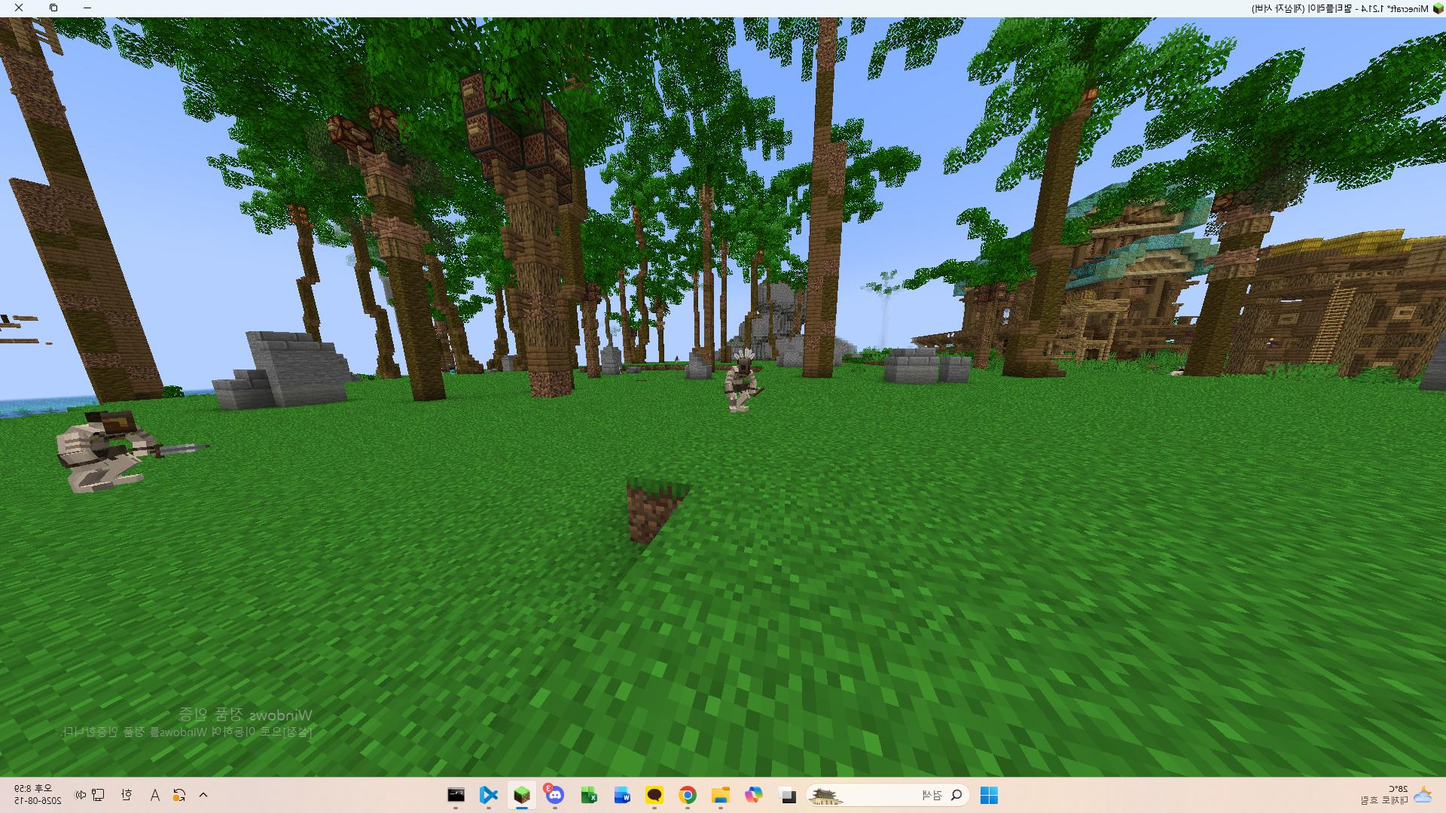bow_indian: (714, 337, 769, 417)
